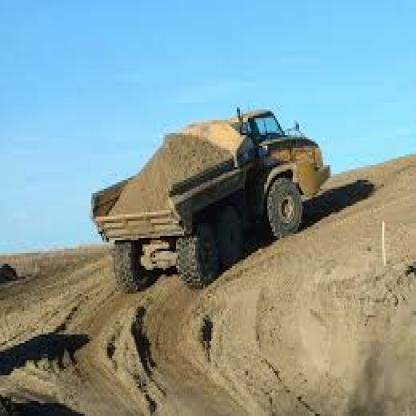dump_truck: (74, 82, 339, 298)
